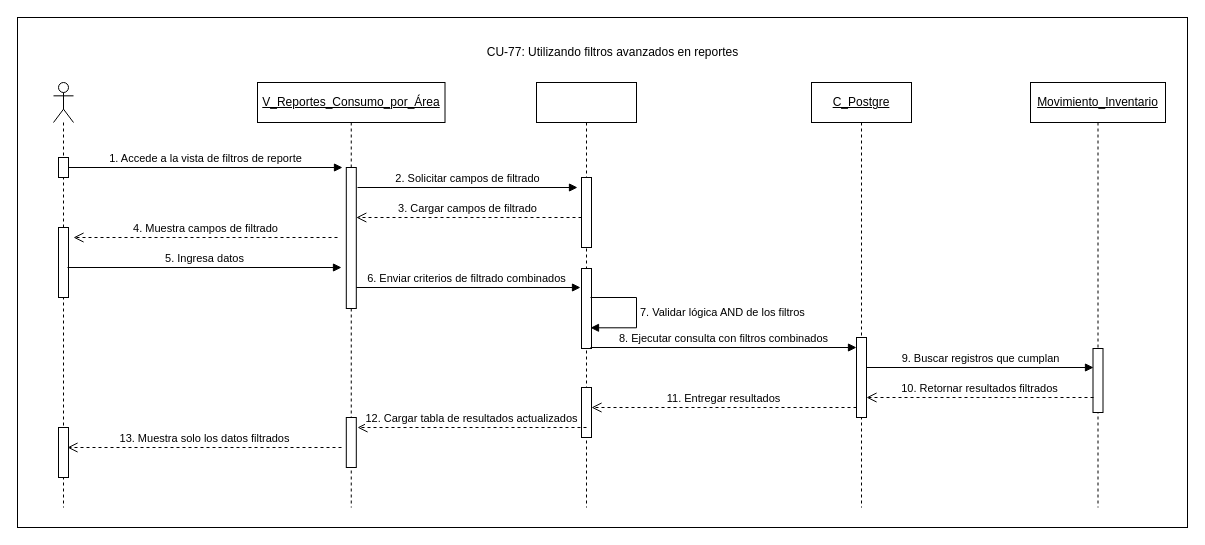
This 1205x545 diagram has some shape labels left out. The centre of each missing label's shape, as x and y in pixels:
"C_reportes" goes at point 586,295.
"Gerencia/JOP" goes at point 63,295.
